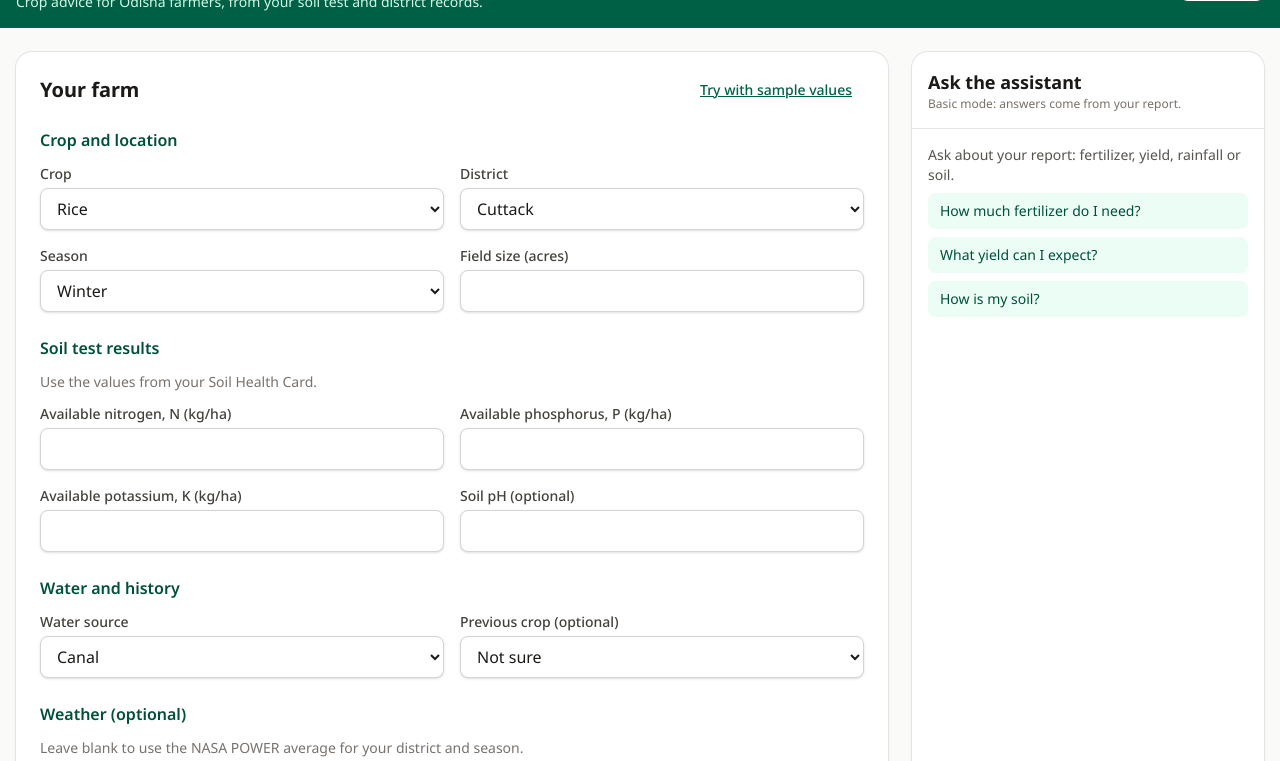
Test: farm report › sends the farm and shows the report with its source
The width and height of the screenshot is (1280, 761).
Step 1. Click the button "Try with sample values" → (776, 90), box [688,76,864,104]
(page scrolled)
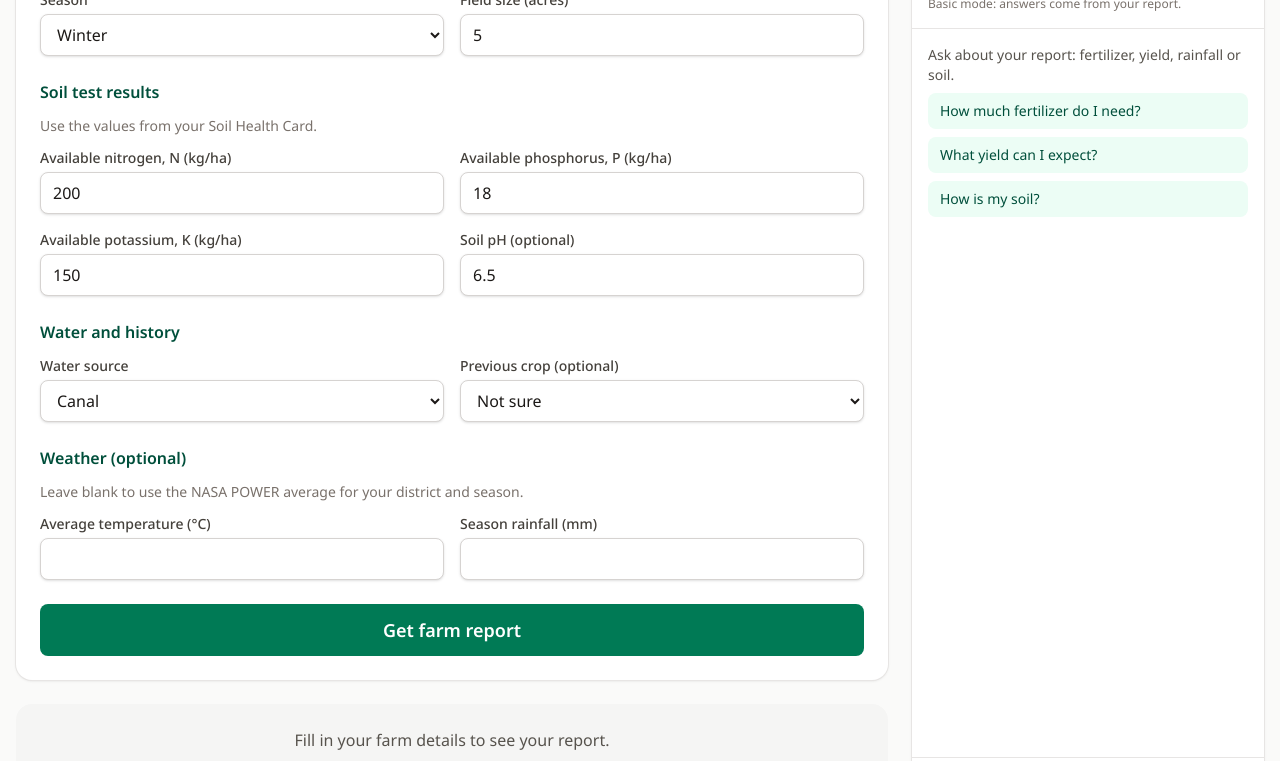
Step 2. Click the button "Get farm report" → (452, 630), box [40,604,864,656]
(page scrolled)
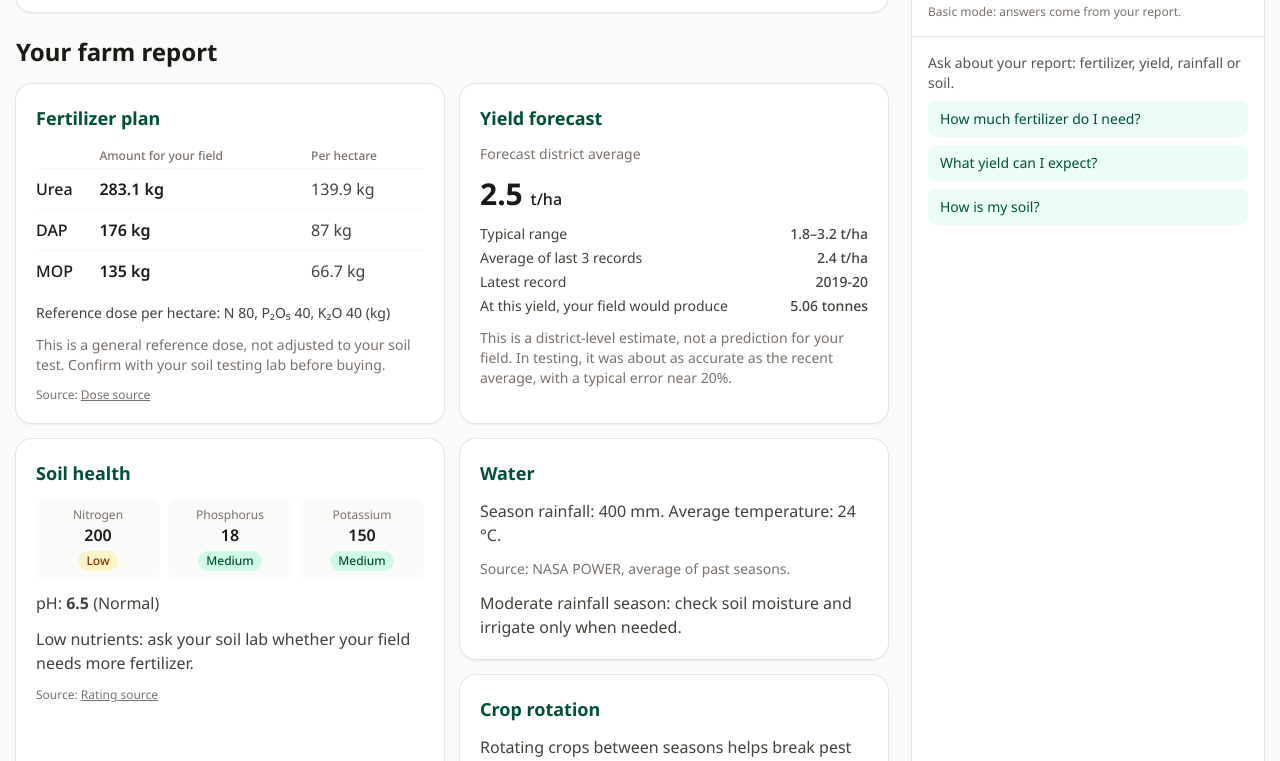
Result: the heading "Your farm report" is shown at [16,35,217,68]
Result: the text "283.1 kg" is shown at [99,168,311,210]
